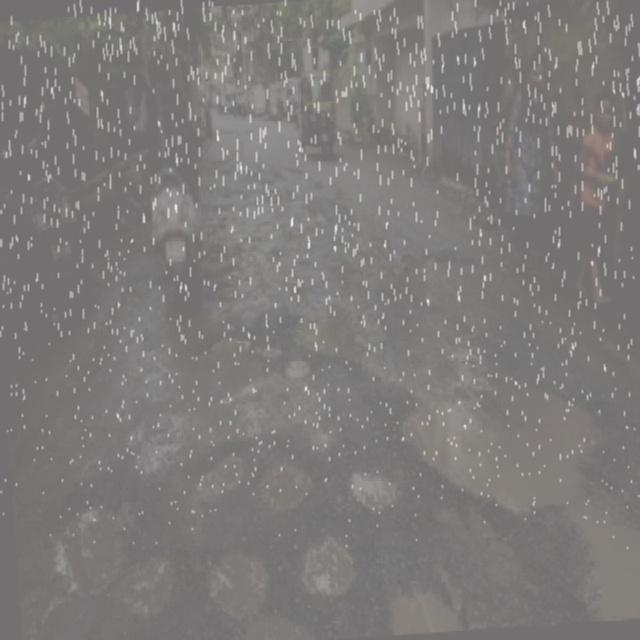Pothole: (296, 275, 640, 537), (60, 477, 151, 608), (190, 539, 292, 640), (214, 243, 289, 324), (245, 452, 328, 518), (183, 435, 258, 506), (346, 466, 416, 520), (304, 532, 352, 606), (205, 335, 268, 388)
